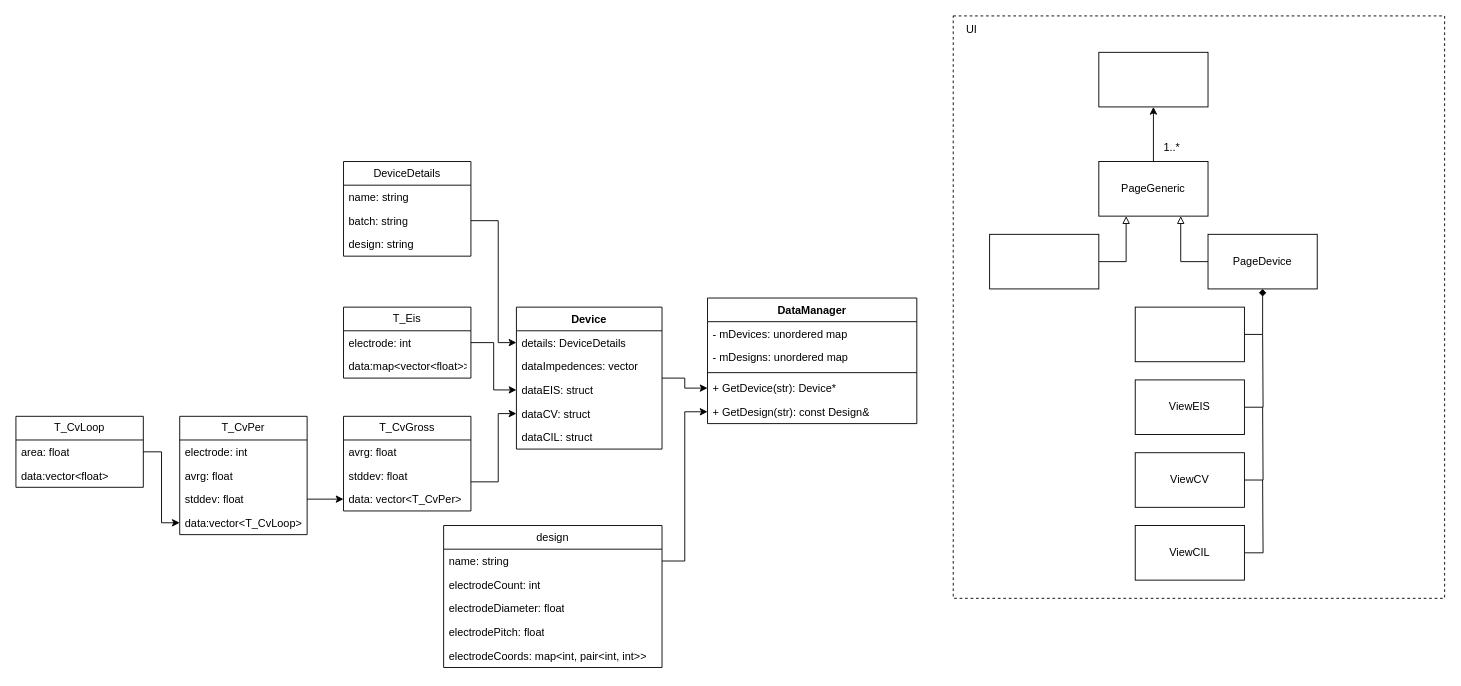
Image size: 1461x686. Some labels were removed from this diagram. Here are the shapes that lost their labels. From the top down, the centre of each, then its label:
At [1153,79]: "MainWindow".
At [1044,261]: "PageHome".
At [1189,334]: "ViewDevice".
